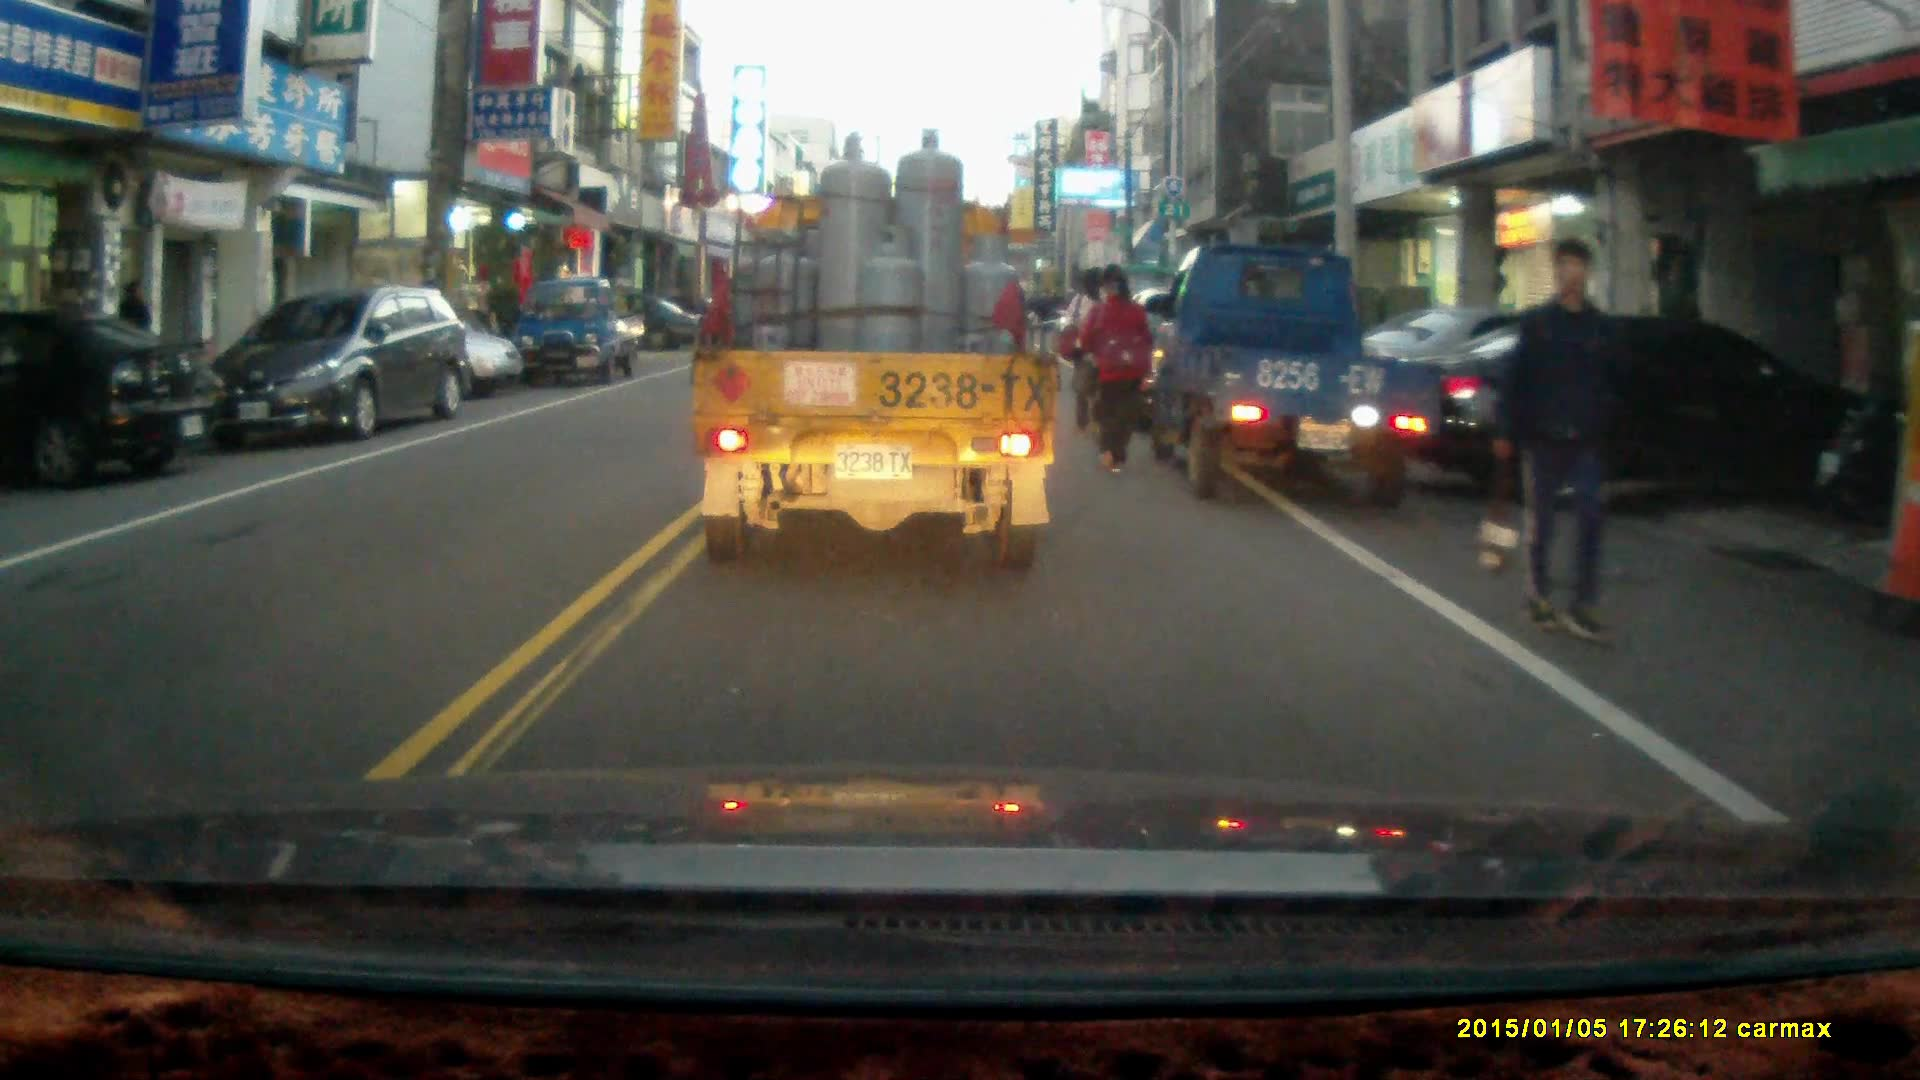pedestrian: (1495, 235, 1642, 648), (1075, 262, 1152, 471), (1062, 265, 1121, 431), (115, 277, 158, 378)
vehicle: (690, 132, 1062, 575), (1154, 243, 1448, 507), (197, 281, 478, 449), (1, 306, 225, 484), (255, 294, 526, 403), (516, 273, 648, 385)
